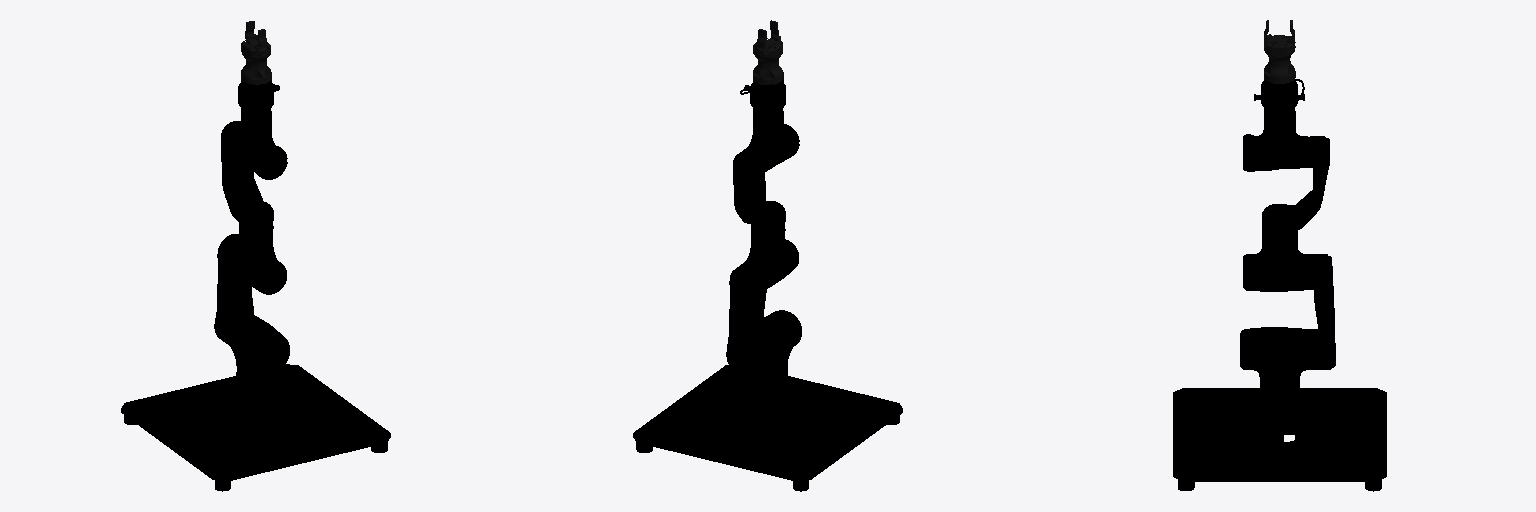
robot.urdf — mara:
<?xml version="1.0" ?>
<!-- =================================================================================== -->
<!-- |    This document was autogenerated by xacro from [local-path]/ros2_mara_ws/src/mara/mara_description/urdf/mara_robot_gripper_hande.urdf.xacro | -->
<!-- |    EDITING THIS FILE BY HAND IS NOT RECOMMENDED                                 | -->
<!-- =================================================================================== -->
<robot name="mara" xmlns:xacro="http://ros.org/wiki/xacro">
  <!--
  Author: [author]
-->
  <link name="base_link">
    <inertial>
      <origin rpy="0 0 0" xyz="8.625E-08 -4.6583E-06 0.03145"/>
      <mass value="7.033"/>
      <inertia ixx="0.1478344" ixy="-0.00001" ixz="0.0" iyy="0.14782335" iyz="0.0" izz="0.29471799"/>
    </inertial>
    <visual>
      <origin rpy="0 0 0" xyz="0 0 0"/>
      <geometry>
        <mesh filename="package://mara_description/meshes/Base_plancha.dae" scale="0.001 0.001 0.001"/>
      </geometry>
      <material name="Gazebo/Grey">
        <color rgba="0. 0. 0. 1"/>
      </material>
    </visual>
    <collision>
      <origin rpy="0 0 0" xyz="0 0 0"/>
      <geometry>
        <mesh filename="package://mara_description/meshes/Base_plancha.dae" scale="0.001 0.001 0.001"/>
      </geometry>
    </collision>
  </link>
  <gazebo reference="base_link">
    <material>Gazebo/Grey</material>
    <selfCollide>True</selfCollide>
  </gazebo>
  <link name="base_robot">
    <inertial>
      <origin rpy="0 0 0" xyz="8.625E-08 -4.6583E-06 0.03145"/>
      <mass value="7.033"/>
      <inertia ixx="0.1478344" ixy="-0.00001" ixz="0.0" iyy="0.14782335" iyz="0.0" izz="0.29471799"/>
    </inertial>
    <visual>
      <origin rpy="0 0 0" xyz="0 0 0"/>
      <geometry>
        <mesh filename="package://mara_description/meshes/Base.dae" scale="0.001 0.001 0.001"/>
      </geometry>
      <material name="Gazebo/Black">
        <color rgba="0. 0. 0. 1"/>
      </material>
    </visual>
    <collision>
      <origin rpy="0 0 0" xyz="0 0 0"/>
      <geometry>
        <mesh filename="package://mara_description/meshes/Base.dae" scale="0.001 0.001 0.001"/>
      </geometry>
    </collision>
  </link>
  <gazebo reference="base_robot">
    <material>Gazebo/Black</material>
    <selfCollide>True</selfCollide>
  </gazebo>
  <link name="motor1_link">
    <inertial>
      <origin rpy="0 0 0" xyz="8.625E-08 -4.6583E-06 0.03145"/>
      <mass value="5.8"/>
      <inertia ixx="0.10105893" ixy="0.000211" ixz="-0.004" iyy="0.09386624" iyz="-0.01698537" izz="0.01449937"/>
    </inertial>
    <visual>
      <origin rpy="0 0 0" xyz="0 0 0"/>
      <geometry>
        <mesh filename="package://mara_description/meshes/MARA_T49.dae" scale="0.001 0.001 0.001"/>
      </geometry>
      <material name="Gazebo/White">
        <color rgba="0. 0. 0. 1"/>
      </material>
    </visual>
    <collision>
      <origin rpy="0 0 0" xyz="0 0 0"/>
      <geometry>
        <mesh filename="package://mara_description/meshes/MARA_T49.dae" scale="0.001 0.001 0.001"/>
      </geometry>
    </collision>
  </link>
  <gazebo reference="motor1_link">
    <material>Gazebo/White</material>
    <selfCollide>True</selfCollide>
  </gazebo>
  <link name="motor1_cover">
    <inertial>
      <origin rpy="0 0 0" xyz="8.625E-08 -4.6583E-06 0.03145"/>
      <mass value="5.8"/>
      <inertia ixx="0.10105893" ixy="0.000211" ixz="-0.004" iyy="0.09386624" iyz="-0.01698537" izz="0.01449937"/>
    </inertial>
    <visual>
      <origin rpy="0 0 0" xyz="0 0 0"/>
      <geometry>
        <mesh filename="package://mara_description/meshes/MARA_T49_Black.dae" scale="0.001 0.001 0.001"/>
      </geometry>
      <material name="Gazebo/Black">
        <color rgba="0. 0. 0. 1"/>
      </material>
    </visual>
    <collision>
      <origin rpy="0 0 0" xyz="0 0 0"/>
      <geometry>
        <mesh filename="package://mara_description/meshes/MARA_T49_Black.dae" scale="0.001 0.001 0.001"/>
      </geometry>
    </collision>
  </link>
  <gazebo reference="motor1_cover">
    <material>Gazebo/Black</material>
    <selfCollide>True</selfCollide>
  </gazebo>
  <link name="motor2_link">
    <inertial>
      <origin rpy="0 0 0" xyz="8.625E-08 -4.6583E-06 0.03145"/>
      <mass value="1.03237"/>
      <inertia ixx="0.014865226" ixy="0.0" ixz="0.0" iyy="0.01557" iyz="0.00071" izz="0.00092"/>
    </inertial>
    <visual>
      <origin rpy="0 0 0" xyz="0 0 0"/>
      <geometry>
        <mesh filename="package://mara_description/meshes/MARA_Link1.dae" scale="0.001 0.001 0.001"/>
      </geometry>
      <material name="Gazebo/Black">
        <color rgba="0. 0. 0. 1"/>
      </material>
    </visual>
    <collision>
      <origin rpy="0 0 0" xyz="0 0 0"/>
      <geometry>
        <mesh filename="package://mara_description/meshes/MARA_Link1.dae" scale="0.001 0.001 0.001"/>
      </geometry>
    </collision>
  </link>
  <gazebo reference="motor2_link">
    <material>Gazebo/Black</material>
    <selfCollide>True</selfCollide>
  </gazebo>
  <link name="motor3_link">
    <inertial>
      <origin rpy="0 0 0" xyz="8.625E-08 -4.6583E-06 0.03145"/>
      <mass value="3.8"/>
      <inertia ixx="0.04517" ixy="0.00002" ixz="0.0" iyy="0.01587" iyz="0.01444" izz="0.03303"/>
    </inertial>
    <visual>
      <origin rpy="0 0 0" xyz="0 0 0"/>
      <geometry>
        <mesh filename="package://mara_description/meshes/MARA_T30.dae" scale="0.001 0.001 0.001"/>
      </geometry>
      <material name="Gazebo/White">
        <color rgba="0. 0. 0. 1"/>
      </material>
    </visual>
    <collision>
      <origin rpy="0 0 0" xyz="0 0 0"/>
      <geometry>
        <mesh filename="package://mara_description/meshes/MARA_T30.dae" scale="0.001 0.001 0.001"/>
      </geometry>
    </collision>
  </link>
  <gazebo reference="motor3_link">
    <material>Gazebo/White</material>
    <selfCollide>True</selfCollide>
  </gazebo>
  <link name="motor3_cover">
    <inertial>
      <origin rpy="0 0 0" xyz="8.625E-08 -4.6583E-06 0.03145"/>
      <mass value="3.8"/>
      <inertia ixx="0.04517" ixy="0.00002" ixz="0.0" iyy="0.01587" iyz="0.01444" izz="0.03303"/>
    </inertial>
    <visual>
      <origin rpy="0 0 0" xyz="0 0 0"/>
      <geometry>
        <mesh filename="package://mara_description/meshes/MARA_T30_Black.dae" scale="0.001 0.001 0.001"/>
      </geometry>
      <material name="Gazebo/Black">
        <color rgba="0. 0. 0. 1"/>
      </material>
    </visual>
    <collision>
      <origin rpy="0 0 0" xyz="0 0 0"/>
      <geometry>
        <mesh filename="package://mara_description/meshes/MARA_T30_Black.dae" scale="0.001 0.001 0.001"/>
      </geometry>
    </collision>
  </link>
  <gazebo reference="motor3_cover">
    <material>Gazebo/Black</material>
    <selfCollide>True</selfCollide>
  </gazebo>
  <link name="motor4_link">
    <inertial>
      <origin rpy="0 0 0" xyz="8.625E-08 -4.6583E-06 0.03145"/>
      <mass value="1.1"/>
      <inertia ixx="0.01464" ixy="0.0" ixz="0.0" iyy="0.00895" iyz="-0.00631" izz="0.00725"/>
    </inertial>
    <visual>
      <origin rpy="0 0 0" xyz="0 0 0"/>
      <geometry>
        <mesh filename="package://mara_description/meshes/MARA_Link2.dae" scale="0.001 0.001 0.001"/>
      </geometry>
      <material name="Gazebo/Black">
        <color rgba="0. 0. 0. 1"/>
      </material>
    </visual>
    <collision>
      <origin rpy="0 0 0" xyz="0 0 0"/>
      <geometry>
        <mesh filename="package://mara_description/meshes/MARA_Link2.dae" scale="0.001 0.001 0.001"/>
      </geometry>
    </collision>
  </link>
  <gazebo reference="motor4_link">
    <material>Gazebo/Black</material>
    <selfCollide>True</selfCollide>
  </gazebo>
  <link name="motor5_link">
    <inertial>
      <origin rpy="0 0 0" xyz="8.625E-08 -4.6583E-06 0.03145"/>
      <mass value="2.9"/>
      <inertia ixx="0.03406" ixy="0.0" ixz="0.0" iyy="0.01066" iyz="0.00989" izz="0.02563"/>
    </inertial>
    <visual>
      <origin rpy="0 0 0" xyz="0 0 0"/>
      <geometry>
        <mesh filename="package://mara_description/meshes/MARA_T5.4.dae" scale="0.001 0.001 0.001"/>
      </geometry>
      <material name="Gazebo/White">
        <color rgba="0. 0. 0. 1"/>
      </material>
    </visual>
    <collision>
      <origin rpy="0 0 0" xyz="0 0 0"/>
      <geometry>
        <mesh filename="package://mara_description/meshes/MARA_T5.4.dae" scale="0.001 0.001 0.001"/>
      </geometry>
    </collision>
  </link>
  <gazebo reference="motor5_link">
    <material>Gazebo/White</material>
    <selfCollide>True</selfCollide>
  </gazebo>
  <link name="motor5_cover">
    <inertial>
      <origin rpy="0 0 0" xyz="8.625E-08 -4.6583E-06 0.03145"/>
      <mass value="2.9"/>
      <inertia ixx="0.03406" ixy="0.0" ixz="0.0" iyy="0.01066" iyz="0.00989" izz="0.02563"/>
    </inertial>
    <visual>
      <origin rpy="0 0 0" xyz="0 0 0"/>
      <geometry>
        <mesh filename="package://mara_description/meshes/MARA_T5.4_black.dae" scale="0.001 0.001 0.001"/>
      </geometry>
      <material name="Gazebo/Black">
        <color rgba="0. 0. 0. 1"/>
      </material>
    </visual>
    <collision>
      <origin rpy="0 0 0" xyz="0 0 0"/>
      <geometry>
        <mesh filename="package://mara_description/meshes/MARA_T5.4_black.dae" scale="0.001 0.001 0.001"/>
      </geometry>
    </collision>
  </link>
  <gazebo reference="motor5_cover">
    <material>Gazebo/Black</material>
    <selfCollide>True</selfCollide>
  </gazebo>
  <link name="motor6_link">
    <inertial>
      <origin rpy="0 0 0" xyz="8.625E-08 -4.6583E-06 0.03145"/>
      <mass value="2.9"/>
      <inertia ixx="0.0005" ixy="0.0" ixz="0.0" iyy="0.0005" iyz="0.0000" izz="0.0003"/>
    </inertial>
    <visual>
      <origin rpy="0 0 0" xyz="0 0 0"/>
      <geometry>
        <mesh filename="package://mara_description/meshes/MARA_GripperAdapter.dae" scale="0.001 0.001 0.001"/>
      </geometry>
      <material name="Gazebo/Black">
        <color rgba="0. 0. 0. 1"/>
      </material>
    </visual>
    <collision>
      <origin rpy="0 0 0" xyz="0 0 0"/>
      <geometry>
        <mesh filename="package://mara_description/meshes/MARA_GripperAdapter.dae" scale="0.001 0.001 0.001"/>
      </geometry>
    </collision>
  </link>
  <gazebo reference="motor6_link">
    <material>Gazebo/Black</material>
    <selfCollide>True</selfCollide>
  </gazebo>
  <link name="ee_link">
    </link>
  <gazebo reference="ee_link">
    <material>Gazebo/Blue</material>
    <selfCollide>False</selfCollide>
  </gazebo>
  <joint name="joint_bases" type="fixed">
    <origin rpy="0 0 0" xyz="0 0 0.04"/>
    <parent link="base_link"/>
    <child link="base_robot"/>
  </joint>
  <joint name="motor1" type="revolute">
    <origin rpy="0 0 0" xyz="0 0 0.05122"/>
    <parent link="base_robot"/>
    <child link="motor1_link"/>
    <axis xyz="0 0 -1"/>
    <limit effort="330.0" lower="-3.1416" upper="3.1416" velocity="3.1416"/>
    <dynamics damping="0" friction="0"/>
  </joint>
  <joint name="motor1_cover_joint" type="fixed">
    <origin rpy="0 0 0" xyz="0 0 0.0"/>
    <parent link="motor1_link"/>
    <child link="motor1_cover"/>
  </joint>
  <joint name="motor2" type="revolute">
    <origin rpy="0 0 0" xyz="0.118 0 0.1637"/>
    <parent link="motor1_link"/>
    <child link="motor2_link"/>
    <axis xyz="-1 0 0"/>
    <limit effort="330.0" lower="-3.1416" upper="3.1416" velocity="3.1416"/>
    <dynamics damping="0" friction="0"/>
  </joint>
  <joint name="motor3" type="revolute">
    <origin rpy="0 0 0" xyz="-0.009 0 0.2"/>
    <parent link="motor2_link"/>
    <child link="motor3_link"/>
    <axis xyz="1 0 0"/>
    <limit effort="330.0" lower="-3.1416" upper="3.1416" velocity="3.1416"/>
    <dynamics damping="0" friction="0"/>
  </joint>
  <joint name="motor3_cover_joint" type="fixed">
    <origin rpy="0 0 0" xyz="0 0 0.0"/>
    <parent link="motor3_link"/>
    <child link="motor3_cover"/>
  </joint>
  <joint name="motor4" type="revolute">
    <origin rpy="0 0 0" xyz="-0.109255 0 0.149255"/>
    <parent link="motor3_link"/>
    <child link="motor4_link"/>
    <axis xyz="0 0 -1"/>
    <limit effort="330.0" lower="-3.1416" upper="3.1416" velocity="3.1416"/>
    <dynamics damping="0" friction="0"/>
  </joint>
  <joint name="motor5" type="revolute">
    <origin rpy="0 0 0" xyz="0.1054570 0 0.16074"/>
    <parent link="motor4_link"/>
    <child link="motor5_link"/>
    <axis xyz="1 0 0"/>
    <limit effort="330.0" lower="-3.1416" upper="3.1416" velocity="3.1416"/>
    <dynamics damping="0" friction="0"/>
  </joint>
  <joint name="motor5_cover_joint" type="fixed">
    <origin rpy="0 0 0" xyz="0 0 0.0"/>
    <parent link="motor5_link"/>
    <child link="motor5_cover"/>
  </joint>
  <joint name="motor6" type="revolute">
    <origin rpy="0 0 0" xyz="-0.10625569 0 0.14675569"/>
    <parent link="motor5_link"/>
    <child link="motor6_link"/>
    <axis xyz="0 0 -1"/>
    <limit effort="330.0" lower="-3.1416" upper="3.1416" velocity="3.1416"/>
    <dynamics damping="0" friction="0"/>
  </joint>
  <joint name="ee_link" type="fixed">
    <origin rpy="0 -1.57 0" xyz="0 0.0 0.18"/>
    <!-- 0.24 -->
    <parent link="motor6_link"/>
    <child link="ee_link"/>
  </joint>
  <link name="tool0"/>
  <joint name="motor6_link-tool0_fixed_joint" type="fixed">
    <origin rpy="0 -1.57 0" xyz="0 0.0 0.18"/>
    <parent link="motor6_link"/>
    <child link="tool0"/>
  </joint>
  <transmission name="shoulder_pan_trans">
    <type>transmission_interface/SimpleTransmission</type>
    <joint name="motor1">
      <hardwareInterface>hardware_interface/PositionJointInterface</hardwareInterface>
    </joint>
    <actuator name="shoulder_pan_motor">
      <mechanicalReduction>1</mechanicalReduction>
    </actuator>
  </transmission>
  <transmission name="shoulder_lift_trans">
    <type>transmission_interface/SimpleTransmission</type>
    <joint name="motor2">
      <hardwareInterface>hardware_interface/PositionJointInterface</hardwareInterface>
    </joint>
    <actuator name="shoulder_lift_motor">
      <mechanicalReduction>1</mechanicalReduction>
    </actuator>
  </transmission>
  <transmission name="elbow_trans">
    <type>transmission_interface/SimpleTransmission</type>
    <joint name="motor3">
      <hardwareInterface>hardware_interface/PositionJointInterface</hardwareInterface>
    </joint>
    <actuator name="elbow_motor">
      <mechanicalReduction>1</mechanicalReduction>
    </actuator>
  </transmission>
  <transmission name="wrist_1_trans">
    <type>transmission_interface/SimpleTransmission</type>
    <joint name="motor4">
      <hardwareInterface>hardware_interface/PositionJointInterface</hardwareInterface>
    </joint>
    <actuator name="wrist_1_motor">
      <mechanicalReduction>1</mechanicalReduction>
    </actuator>
  </transmission>
  <transmission name="wrist_2_trans">
    <type>transmission_interface/SimpleTransmission</type>
    <joint name="motor5">
      <hardwareInterface>hardware_interface/PositionJointInterface</hardwareInterface>
    </joint>
    <actuator name="wrist_2_motor">
      <mechanicalReduction>1</mechanicalReduction>
    </actuator>
  </transmission>
  <transmission name="wrist_3_trans">
    <type>transmission_interface/SimpleTransmission</type>
    <joint name="motor6">
      <hardwareInterface>hardware_interface/PositionJointInterface</hardwareInterface>
    </joint>
    <actuator name="wrist_3_motor">
      <mechanicalReduction>1</mechanicalReduction>
    </actuator>
  </transmission>
  <gazebo>
    <plugin filename="libmara_gazebo_joint_training_plugin.so" name="hros_actuation_servomotor_00000000000">
      <ros/>
      <axis1>motor2</axis1>
      <axis2>motor1</axis2>
      <axis3>motor3</axis3>
      <axis4>motor4</axis4>
      <axis5>motor5</axis5>
      <axis6>motor6</axis6>
    </plugin>
  </gazebo>
  <link name="robotiq_hande_base_link">
    <inertial>
      <origin rpy="0 0 0" xyz="8.625E-08 -4.6583E-06 0.03145"/>
      <mass value="0.22652"/>
      <inertia ixx="0.00020005" ixy="0" ixz="0" iyy="0.00017832" iyz="0" izz="0.00013478"/>
    </inertial>
    <visual>
      <origin rpy="0 0 1.57" xyz="0 0 0"/>
      <geometry>
        <mesh filename="package://robotiq_hande_gripper_description/meshes/hand-e.dae" scale="0.001 0.001 0.001"/>
      </geometry>
      <material name="Gazebo/Black">
        <color rgba="0.1 0.1 0.1 1"/>
      </material>
    </visual>
    <collision>
      <origin rpy="0 0 1.57" xyz="0 0 0"/>
      <geometry>
        <mesh filename="package://robotiq_hande_gripper_description/meshes/hand-e.dae" scale="0.001 0.001 0.001"/>
      </geometry>
    </collision>
  </link>
  <gazebo reference="robotiq_hande_base_link">
    <material>Gazebo/Black</material>
    <selfCollide>True</selfCollide>
  </gazebo>
  <link name="finger1">
    <inertial>
      <origin rpy="0 0 0" xyz="8.625E-08 -4.6583E-06 0.03145"/>
      <mass value="0.22652"/>
      <inertia ixx="0.00020005" ixy="0" ixz="0" iyy="0.00017832" iyz="0" izz="0.00013478"/>
    </inertial>
    <visual>
      <origin rpy="0 0 1.57" xyz="0 0 0"/>
      <geometry>
        <mesh filename="package://robotiq_hande_gripper_description/meshes/finger_1.dae" scale="0.001 0.001 0.001"/>
      </geometry>
      <material name="Gazebo/Grey">
        <color rgba="0.1 0.1 0.1 1"/>
      </material>
    </visual>
    <collision>
      <origin rpy="0 0 1.57" xyz="0 0 0"/>
      <geometry>
        <mesh filename="package://robotiq_hande_gripper_description/meshes/finger_1.dae" scale="0.001 0.001 0.001"/>
      </geometry>
    </collision>
  </link>
  <gazebo reference="finger1">
    <material>Gazebo/Grey</material>
    <selfCollide>True</selfCollide>
  </gazebo>
  <link name="finger2">
    <inertial>
      <origin rpy="0 0 0" xyz="8.625E-08 -4.6583E-06 0.03145"/>
      <mass value="0.22652"/>
      <inertia ixx="0.00020005" ixy="0" ixz="0" iyy="0.00017832" iyz="0" izz="0.00013478"/>
    </inertial>
    <visual>
      <origin rpy="0 0 1.57" xyz="0 0 0"/>
      <geometry>
        <mesh filename="package://robotiq_hande_gripper_description/meshes/finger_2.dae" scale="0.001 0.001 0.001"/>
      </geometry>
      <material name="Gazebo/Grey">
        <color rgba="0.1 0.1 0.1 1"/>
      </material>
    </visual>
    <collision>
      <origin rpy="0 0 1.57" xyz="0 0 0"/>
      <geometry>
        <mesh filename="package://robotiq_hande_gripper_description/meshes/finger_2.dae" scale="0.001 0.001 0.001"/>
      </geometry>
    </collision>
  </link>
  <gazebo reference="finger2">
    <material>Gazebo/Grey</material>
    <selfCollide>True</selfCollide>
  </gazebo>
  <gazebo>
    <plugin filename="librobotiq_linear_gripper_gazebo_plugin.so" name="robotiq_hande_gripper">
      <left_joint>joint_finger</left_joint>
      <right_joint>finger2_joint</right_joint>
    </plugin>
  </gazebo>
  <joint name="joint_finger" type="prismatic">
    <origin rpy="0 0 0" xyz="0 0 0.0"/>
    <parent link="robotiq_hande_base_link"/>
    <child link="finger1"/>
    <axis xyz="0 0 -1"/>
    <limit effort="1000" lower="0" upper="0.024858" velocity="2.0"/>
  </joint>
  <joint name="finger2_joint" type="prismatic">
    <origin rpy="0 0 0" xyz="0 0 0.0"/>
    <parent link="robotiq_hande_base_link"/>
    <child link="finger2"/>
    <axis xyz="0 0 1"/>
    <limit effort="1000" lower="0" upper="0.024858" velocity="2.0"/>
    <mimic joint="joint_finger" multiplier="1" offset="0"/>
  </joint>
  <link name="table">
    <contact>
      <lateral_friction value="1.0"/>
    </contact>
    <inertial>
      <origin rpy="0 0 0" xyz="0 0 0"/>
      <mass value="0.00001"/>
      <inertia ixx="0.001" ixy="0" ixz="0" iyy="0.001" iyz="0" izz="0.001"/>
    </inertial>
    <visual>
      <origin rpy="0 0 0" xyz="0 0 0.6"/>
      <geometry>
        <mesh filename="package://mara_description/urdf/table.obj" scale="1.5 1 0.05"/>
      </geometry>
      <material name="brown">
        <color rgba="0.63 0.16 0.16 1"/>
      </material>
    </visual>
    <collision>
      <origin rpy="0 0 0" xyz="0 0 0.6"/>
      <geometry>
        <box size="1.5 1 0.05"/>
      </geometry>
    </collision>
    <visual>
      <origin rpy="0 0 0" xyz="-0.65 -0.4 0.29"/>
      <geometry>
        <mesh filename="package://mara_description/urdf/table.obj" scale="0.1 0.1 0.58"/>
      </geometry>
      <material name="framemat0"/>
    </visual>
    <visual>
      <origin rpy="0 0 0" xyz="-0.65 0.4 0.29"/>
      <geometry>
        <mesh filename="package://mara_description/urdf/table.obj" scale="0.1 0.1 0.58"/>
      </geometry>
      <material name="framemat0"/>
    </visual>
    <visual>
      <origin rpy="0 0 0" xyz="0.65 -0.4 0.29"/>
      <geometry>
        <mesh filename="package://mara_description/urdf/table.obj" scale="0.1 0.1 0.58"/>
      </geometry>
      <material name="framemat0"/>
    </visual>
    <visual>
      <origin rpy="0 0 0" xyz="0.65 0.4 0.29"/>
      <geometry>
        <mesh filename="package://mara_description/urdf/table.obj" scale="0.1 0.1 0.58"/>
      </geometry>
    </visual>
  </link>
  <gazebo reference="table">
    <material>Gazebo/Brown</material>
    <selfCollide>True</selfCollide>
  </gazebo>
  <link name="world"/>
  <joint name="end_effector_adapter_to_robotiq" type="fixed">
    <origin rpy="0 1.57 0" xyz=" 0 0 0.13"/>
    <parent link="motor6_link"/>
    <child link="robotiq_hande_base_link"/>
  </joint>
  <joint name="world_to_table_joint" type="fixed">
    <origin rpy="0 0 0" xyz="0 0 0.02"/>
    <parent link="world"/>
    <child link="table"/>
  </joint>
  <joint name="table_to_base_joint" type="fixed">
    <origin rpy="0 0 1.57" xyz="0 0 0.62"/>
    <parent link="table"/>
    <child link="base_link"/>
  </joint>
</robot>

--- Render facts (derived) ---
The picture shows the robot from 3 angles, left to right: view 1: azimuth 30°, elevation 25°; view 2: azimuth 150°, elevation 25°; view 3: azimuth 270°, elevation 25°; orthographic projection.
Model mara with 18 links and 17 joints (6 revolute, 2 prismatic, 9 fixed), rooted at world, posed every joint at zero.
Visible links, largest first — view 1: base_link, base_robot, motor4_link, motor1_link, motor1_cover, motor2_link, motor3_link, motor5_link, motor3_cover, motor5_cover, robotiq_hande_base_link, motor6_link; view 2: base_link, base_robot, motor2_link, motor4_link, motor1_link, motor3_link, motor5_link, robotiq_hande_base_link, motor6_link, motor1_cover, motor5_cover; view 3: base_link, base_robot, motor1_link, motor3_link, motor4_link, motor5_link, motor2_link, motor1_cover, robotiq_hande_base_link, motor6_link, motor5_cover, motor3_cover.
Boxes of the visible links, x1,y1,x2,y2 form: base_link: [121, 364, 390, 491]; base_robot: [207, 385, 304, 441]; motor4_link: [221, 121, 273, 228]; motor1_link: [223, 311, 275, 394]; motor1_cover: [221, 309, 289, 398]; motor2_link: [214, 234, 253, 341]; motor3_link: [227, 226, 276, 282]; motor5_link: [230, 111, 275, 164]; motor3_cover: [224, 224, 286, 294]; motor5_cover: [227, 109, 287, 179]; robotiq_hande_base_link: [241, 39, 271, 84]; motor6_link: [238, 80, 279, 112]; base_link: [633, 365, 902, 491]; base_robot: [719, 385, 816, 441]; motor2_link: [726, 263, 766, 376]; motor4_link: [733, 149, 785, 229]; motor1_link: [748, 321, 794, 394]; motor3_link: [744, 225, 792, 288]; motor5_link: [747, 111, 789, 171]; robotiq_hande_base_link: [753, 38, 783, 84]; motor6_link: [740, 79, 785, 112]; motor1_cover: [748, 310, 801, 398]; motor5_cover: [744, 109, 799, 170]; base_link: [1173, 388, 1386, 491]; base_robot: [1229, 395, 1330, 451]; motor1_link: [1254, 327, 1313, 405]; motor3_link: [1254, 231, 1309, 291]; motor4_link: [1262, 136, 1329, 232]; motor5_link: [1256, 111, 1307, 168]; motor2_link: [1314, 254, 1335, 369]; motor1_cover: [1240, 327, 1317, 409]; robotiq_hande_base_link: [1264, 35, 1295, 83]; motor6_link: [1254, 79, 1304, 112]; motor5_cover: [1243, 109, 1312, 171]; motor3_cover: [1243, 228, 1313, 291].
Size in the robot's own frame: 0.5004 by 0.5004 by 1.1 metres.
14 mesh visuals loaded from 15 distinct referenced files (14 Collada DAE); not drawn: 5 (reference not matched to a file when rendering).
